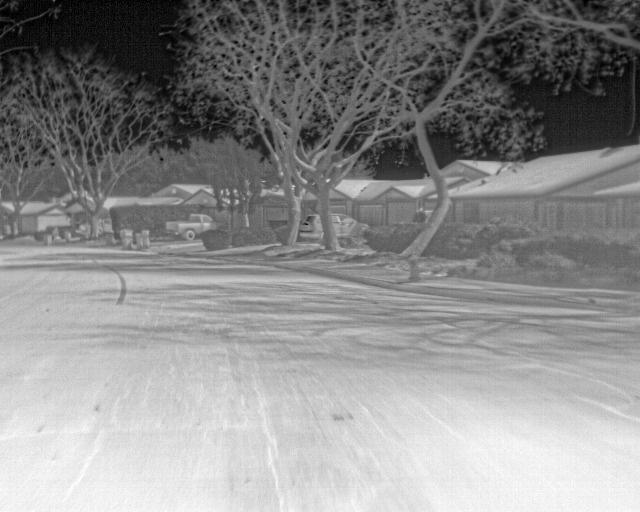car: (164, 211, 214, 241), (331, 212, 366, 243), (300, 212, 323, 245)
